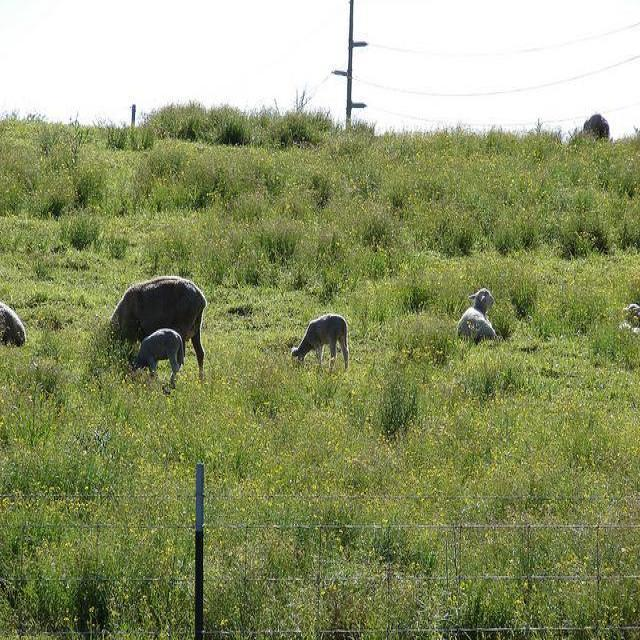Sheep: (102, 275, 206, 381), (292, 313, 349, 368), (131, 331, 185, 389), (455, 288, 503, 341)
